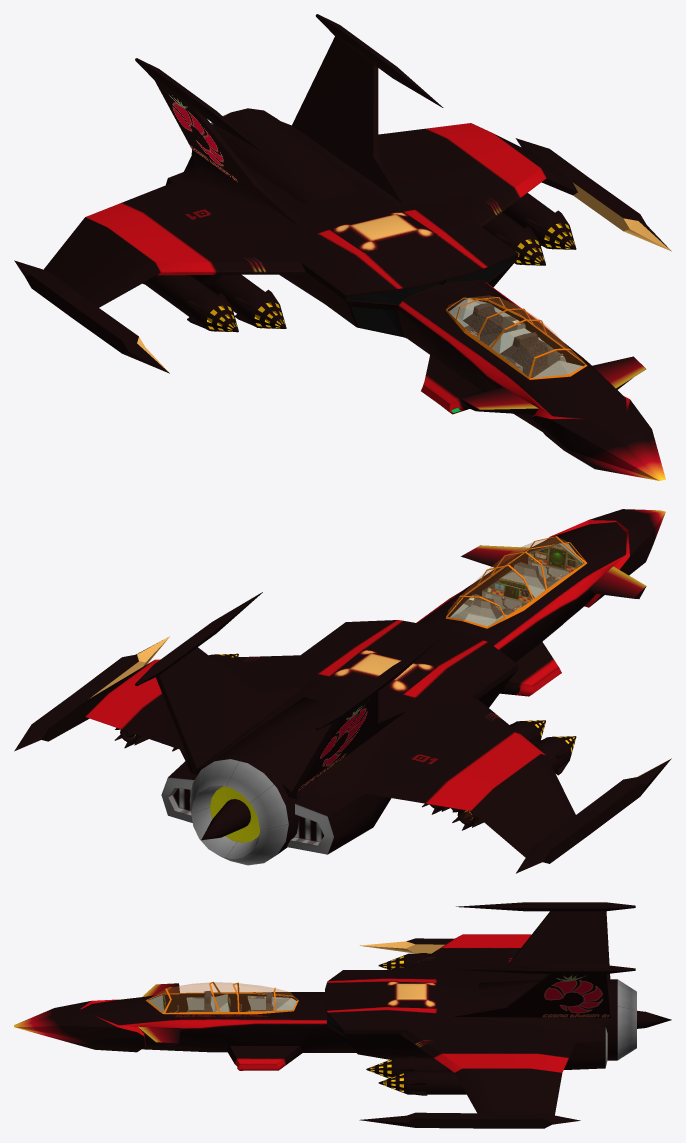
File: CosmoDragon.obj
The picture shows the model from 3 angles, top to bottom: view 1: azimuth 30°, elevation 25°; view 2: azimuth 150°, elevation 25°; view 3: azimuth 270°, elevation 25°; orthographic projection. The views are drawn at different scales.
Visible parts, largest first — view 1: Jet, Window, Cockpit, Launcher4, Launcher3, Launcher1, Launcher2; view 2: Jet, Window, Cockpit, Launcher4, Launcher3; view 3: Jet, Window, Launcher1, Cockpit, Launcher2, Launcher4.
Part boxes in pixels (left/top/right/bottom): Jet: left=14, top=14, right=671, bottom=480; Window: left=446, top=295, right=587, bottom=379; Cockpit: left=449, top=298, right=582, bottom=378; Launcher4: left=142, top=275, right=238, bottom=332; Launcher3: left=207, top=274, right=286, bottom=328; Launcher1: left=504, top=193, right=576, bottom=249; Launcher2: left=482, top=212, right=545, bottom=265; Jet: left=14, top=509, right=671, bottom=873; Window: left=446, top=536, right=586, bottom=628; Cockpit: left=450, top=543, right=583, bottom=626; Launcher4: left=452, top=736, right=576, bottom=830; Launcher3: left=422, top=720, right=545, bottom=814; Jet: left=14, top=902, right=671, bottom=1128; Window: left=146, top=981, right=298, bottom=1014; Launcher1: left=378, top=1070, right=466, bottom=1095; Cockpit: left=148, top=990, right=296, bottom=1012; Launcher2: left=366, top=1056, right=448, bottom=1078; Launcher4: left=378, top=953, right=430, bottom=969.
Size of the model in its own units: 535 by 169 by 826.
